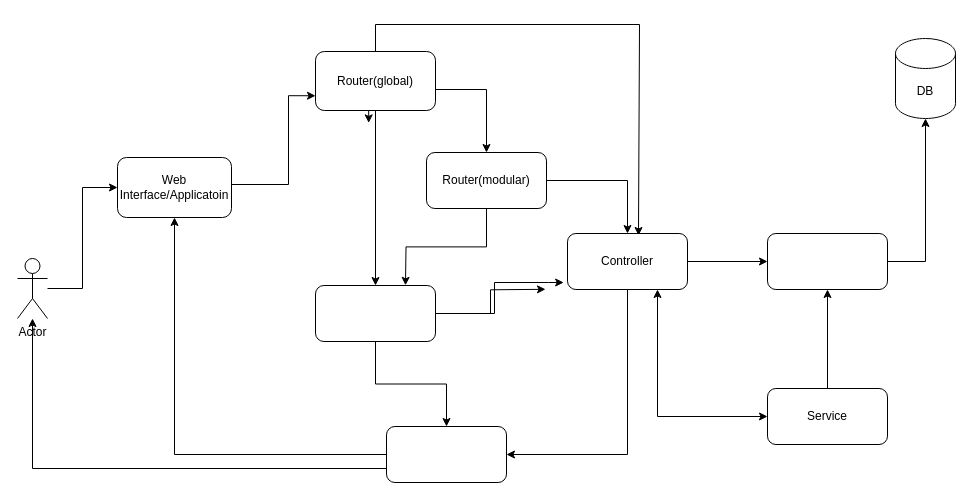
Some shapes in this 973 by 500 pixel diagram are drawn without their labels. The centre of each missing label's shape, as x and y in pixels:
middleware: [375,313]
Model: [827,261]
Response: [446,454]
